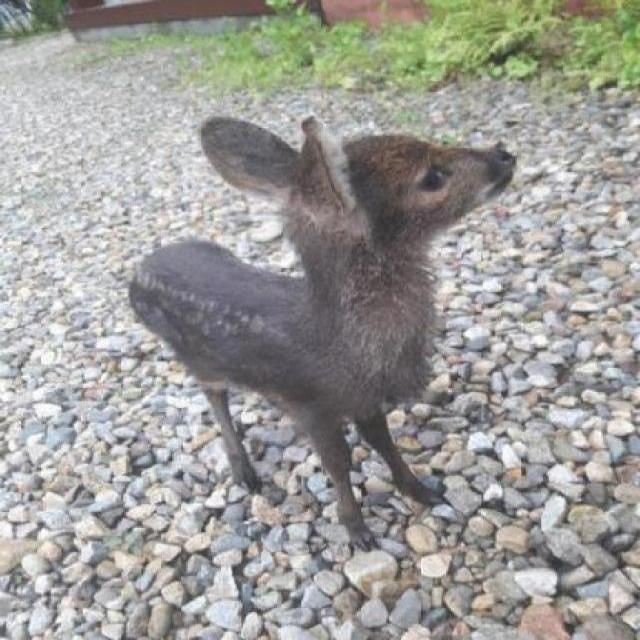deer: (120, 94, 546, 554)
